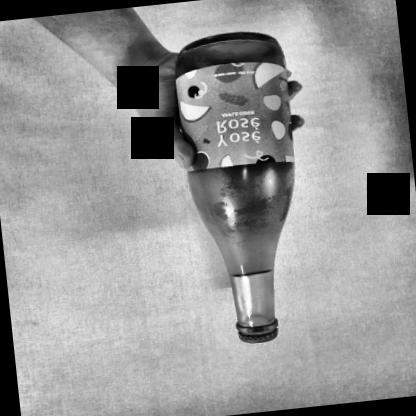yoserose: (182, 63, 292, 164)
